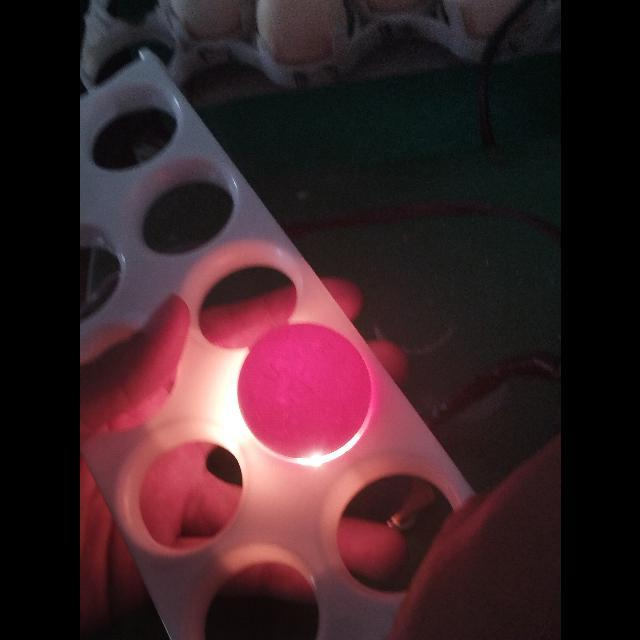Infertile: (236, 318, 372, 459)
